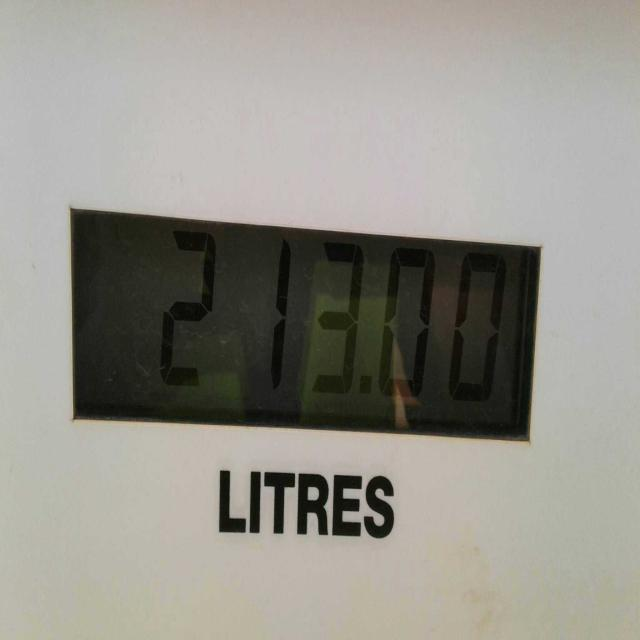.: (359, 371, 372, 397)
0: (382, 243, 433, 399), (449, 252, 502, 396)
1: (273, 242, 291, 390)
2: (164, 231, 213, 384)
3: (313, 239, 361, 398)
